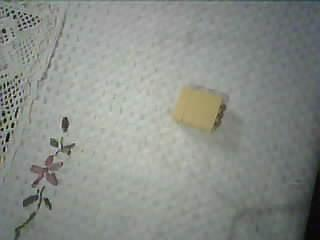lego: (169, 84, 226, 135)
